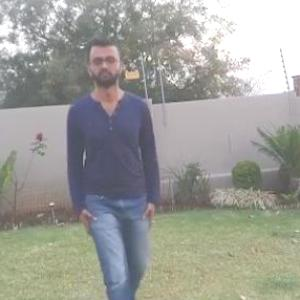follow: (70, 46, 162, 299)
